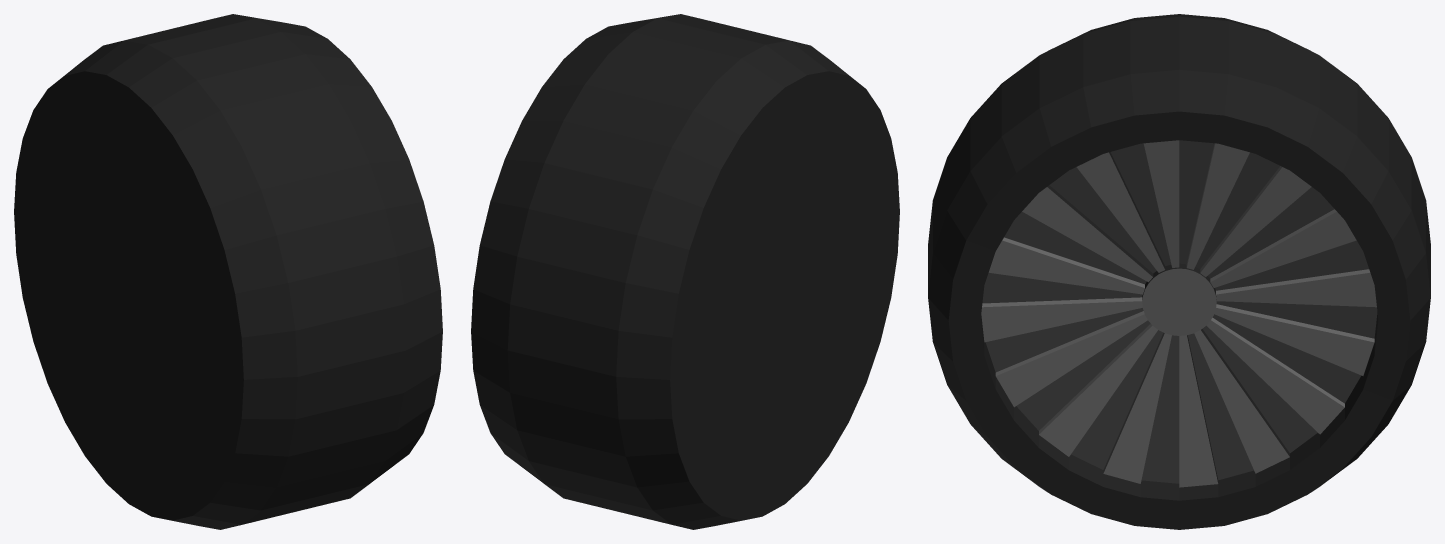
The model's file is WheelBasic1.fbx.
3 views of the same model, side by side, from view 1: azimuth 30°, elevation 25°; view 2: azimuth 150°, elevation 25°; view 3: azimuth 270°, elevation 25° (orthographic).
Parts seen in each view (by area): view 1: Tire; view 2: Tire; view 3: Tire.
Part boxes in pixels (bbox=[...]): Tire: bbox=[14, 14, 442, 529]; Tire: bbox=[471, 14, 899, 529]; Tire: bbox=[928, 14, 1430, 529].
Size of the model in its own units: 91.8 by 200 by 200.
